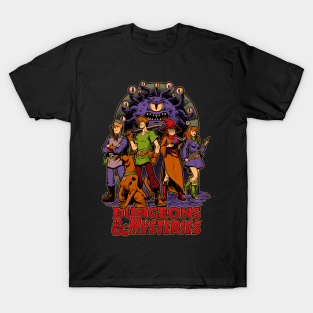design: (98, 79, 214, 238)
